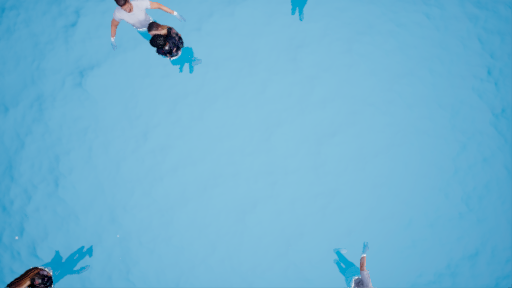person: (3, 244, 101, 288), (107, 1, 189, 49), (147, 26, 202, 77)
